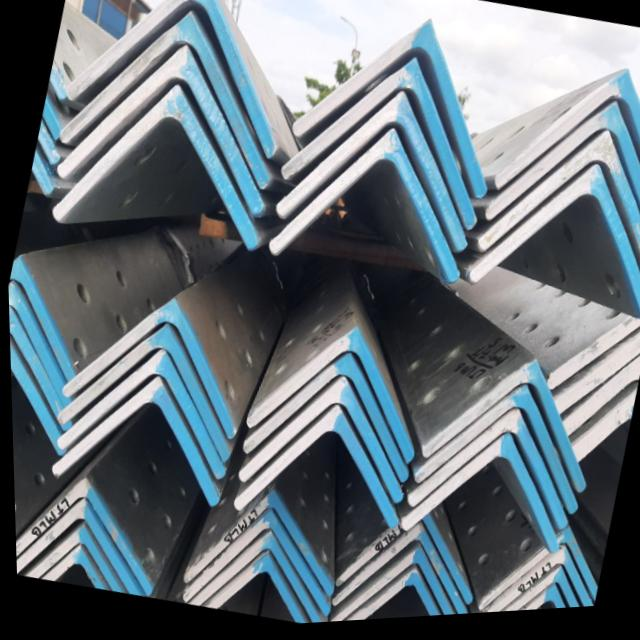metal-angles: (59, 13, 269, 192), (56, 48, 264, 218), (292, 24, 485, 203), (65, 0, 277, 161), (280, 62, 476, 235), (52, 89, 258, 251), (276, 97, 465, 257), (268, 135, 457, 287), (467, 171, 640, 325), (60, 300, 233, 440), (55, 326, 227, 465), (245, 331, 411, 467), (49, 378, 217, 509), (419, 365, 583, 499), (55, 351, 222, 481), (241, 356, 405, 488), (412, 391, 575, 521), (477, 138, 640, 267), (230, 408, 395, 533), (236, 383, 399, 508), (404, 414, 564, 536), (399, 438, 555, 558), (484, 109, 640, 226), (494, 76, 640, 195), (13, 478, 149, 598), (179, 511, 326, 619), (180, 493, 330, 598), (328, 527, 464, 620), (13, 499, 141, 597), (184, 535, 317, 626), (326, 552, 448, 625), (198, 554, 306, 627), (22, 525, 123, 595), (485, 553, 588, 618), (340, 570, 436, 625), (503, 574, 575, 617), (37, 547, 105, 591), (519, 591, 561, 617)
